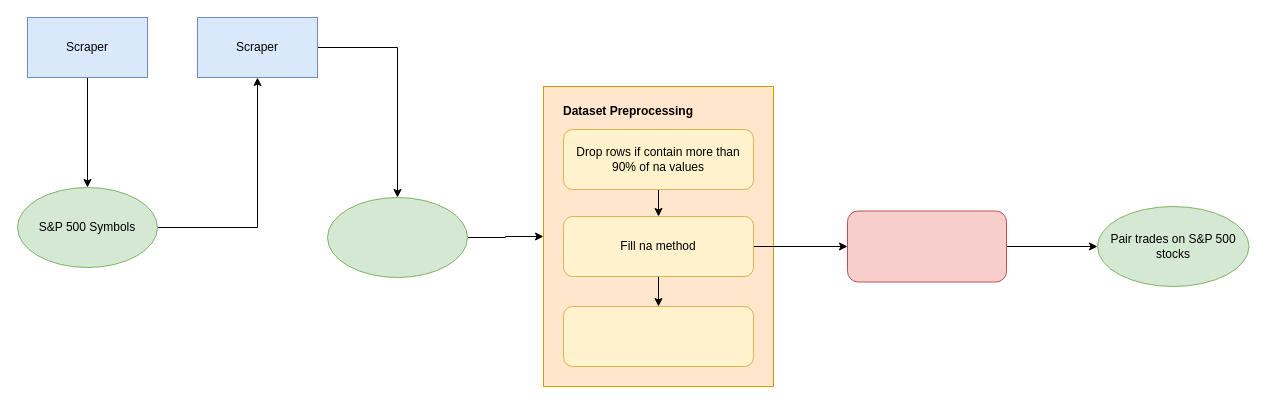
Image size: 1267x404. Some labels were removed from this diagram. The box of each missing label's shape, as (x1, y1, x2, y2) in pixels:
KMeans Method: (846, 210, 1006, 282)
Reshaping: (562, 306, 754, 366)
YahooFinance Stocks Data: (326, 196, 468, 278)
